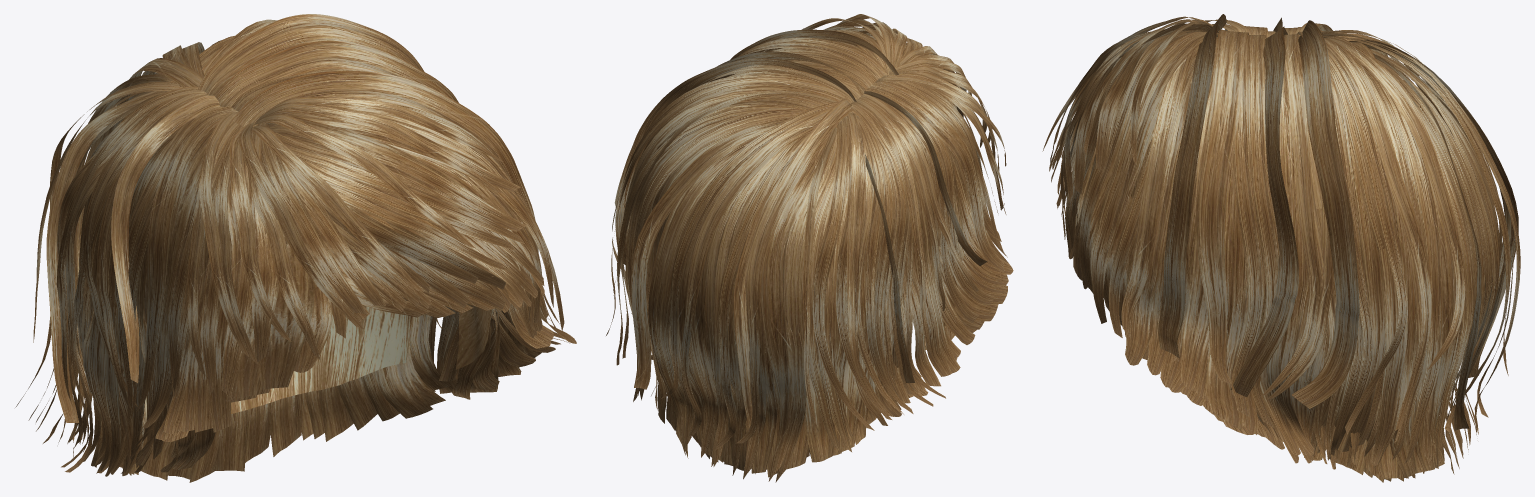
Rendered from Hair4.glb.
The picture shows the model from 3 angles, left to right: view 1: azimuth 30°, elevation 25°; view 2: azimuth 150°, elevation 25°; view 3: azimuth 270°, elevation 25°; orthographic projection. The views are drawn at different scales.
Parts seen in each view (by area): view 1: ToulouseHR; view 2: ToulouseHR; view 3: ToulouseHR.
Part boxes in pixels (x1,y1,x2,y2): ToulouseHR: (15, 14, 576, 482); ToulouseHR: (606, 14, 1013, 482); ToulouseHR: (1042, 14, 1520, 482).
Bounding box in the file's own units: 4.36 × 4.83 × 4.86.
3 materials, 3 textured.
